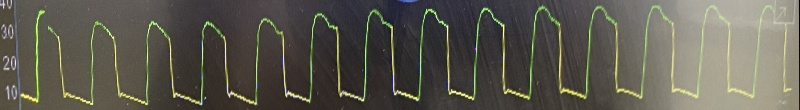normal_pressure: (10, 0, 799, 110)
